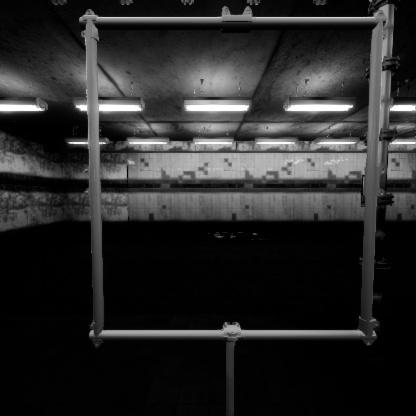gate: (87, 73, 410, 398)
